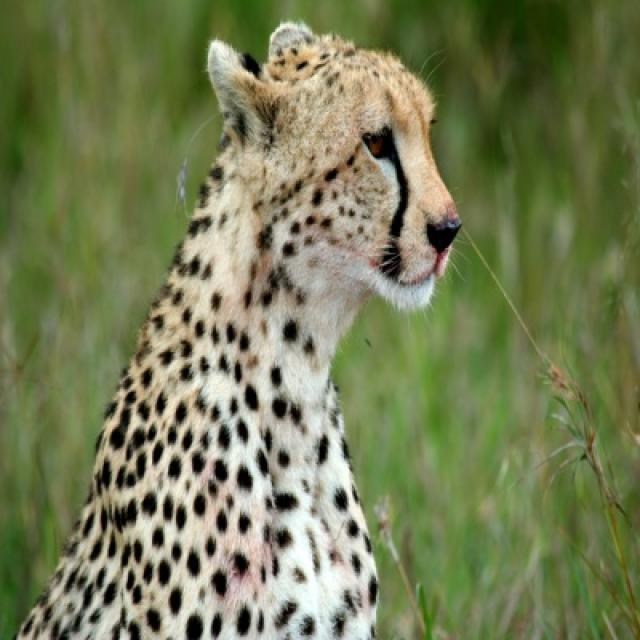Cheetah: (13, 21, 462, 638)
